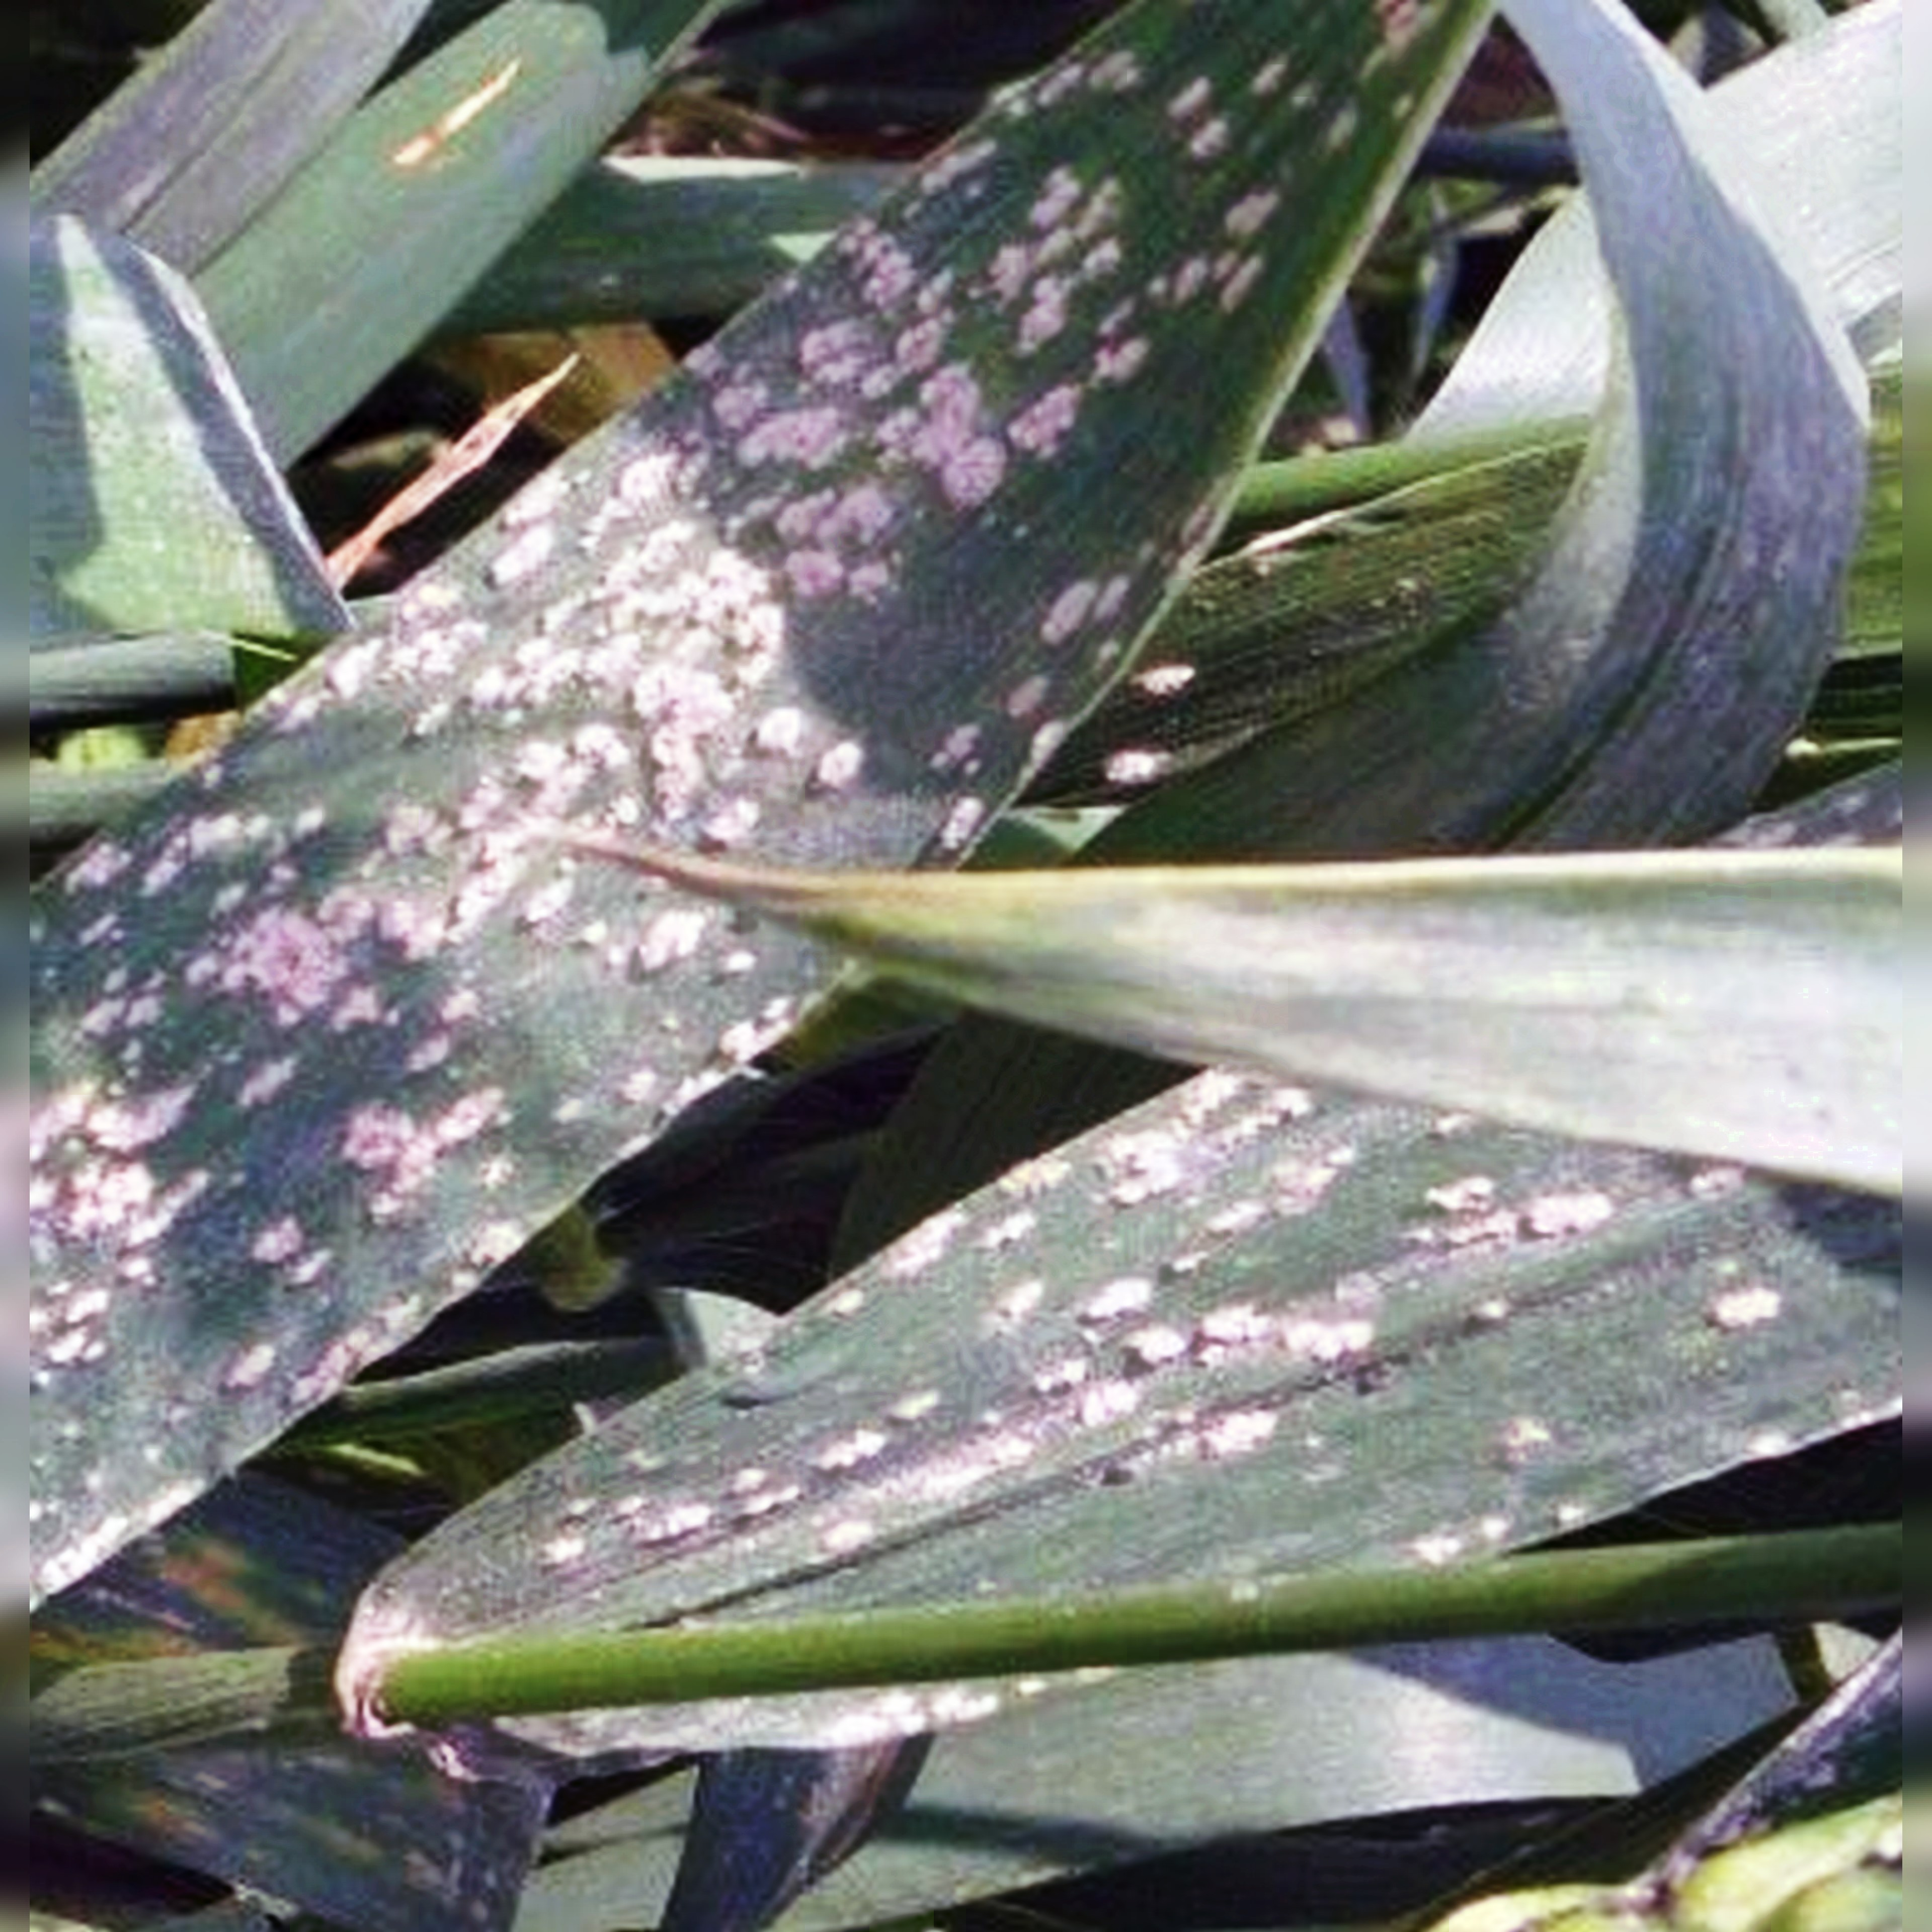Powdery Mildew: (78, 62, 1106, 1111), (936, 1081, 1720, 1674)
